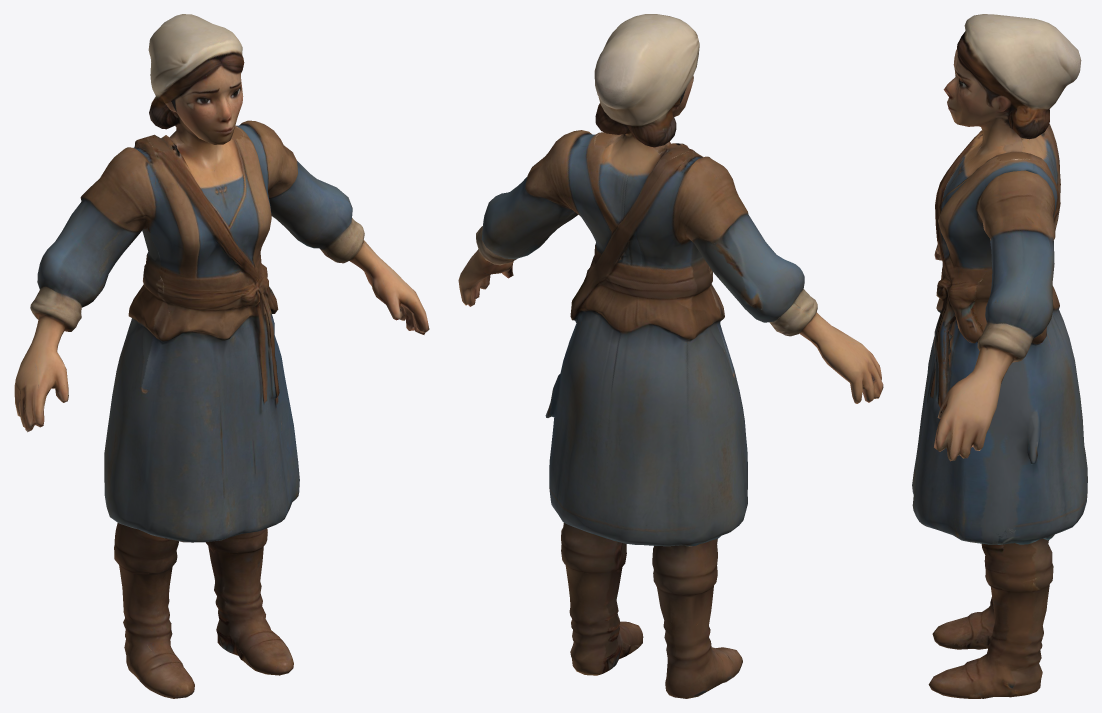
File: Meshy_AI_Village_Maid_0319015259_texture.glb
The picture shows the model from 3 angles, left to right: view 1: azimuth 30°, elevation 25°; view 2: azimuth 150°, elevation 25°; view 3: azimuth 270°, elevation 25°; orthographic projection. The views are drawn at different scales.
Bounding box in the file's own units: 1.33 × 2.01 × 0.4966.
Materials: 1 (1 with a texture image).
